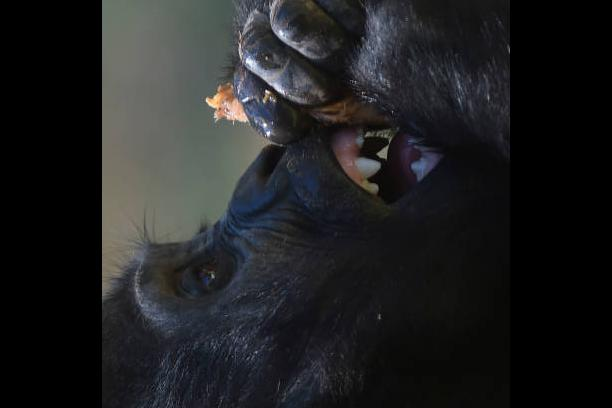gorille_Autres: (107, 0, 510, 408)
